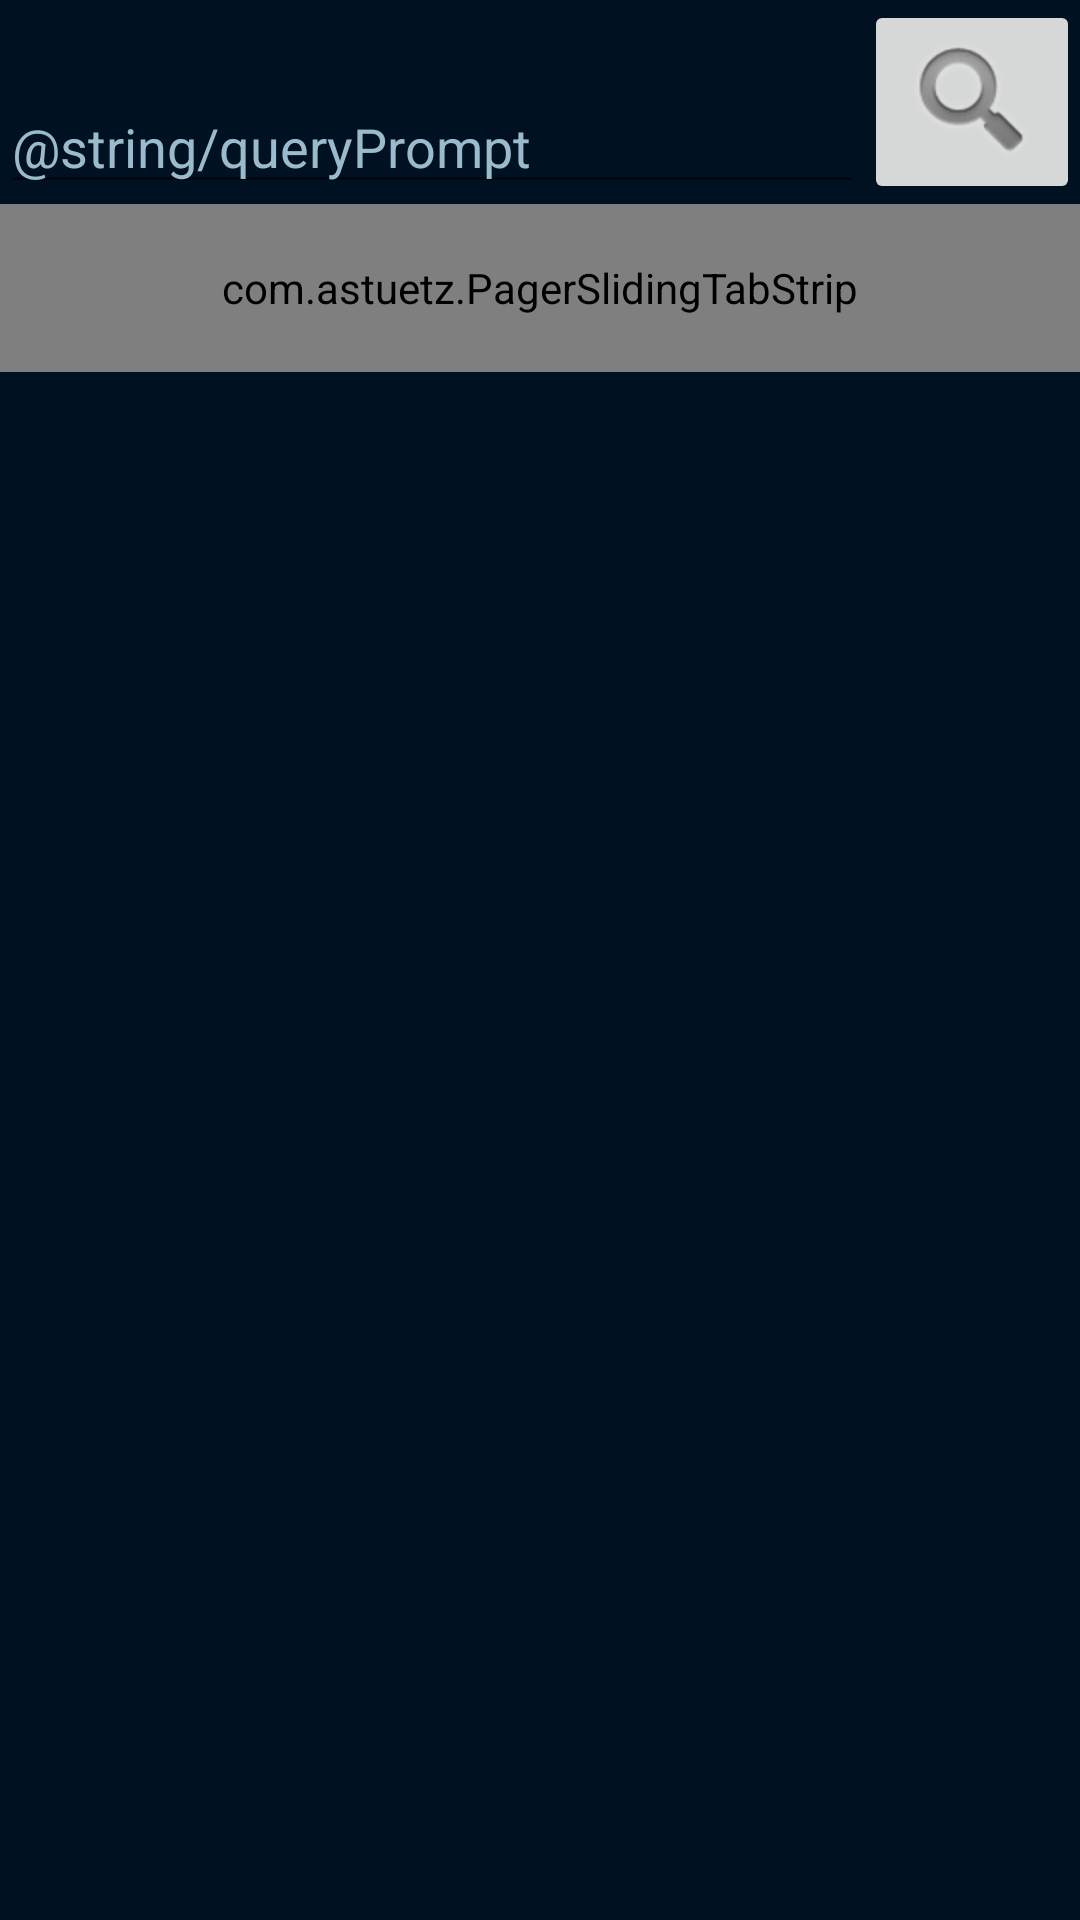

Screen size 1080 x 1920. Icon name, then its box in pixels as (x1, y1, x2, y2):
search category: (876, 18, 1068, 186)
